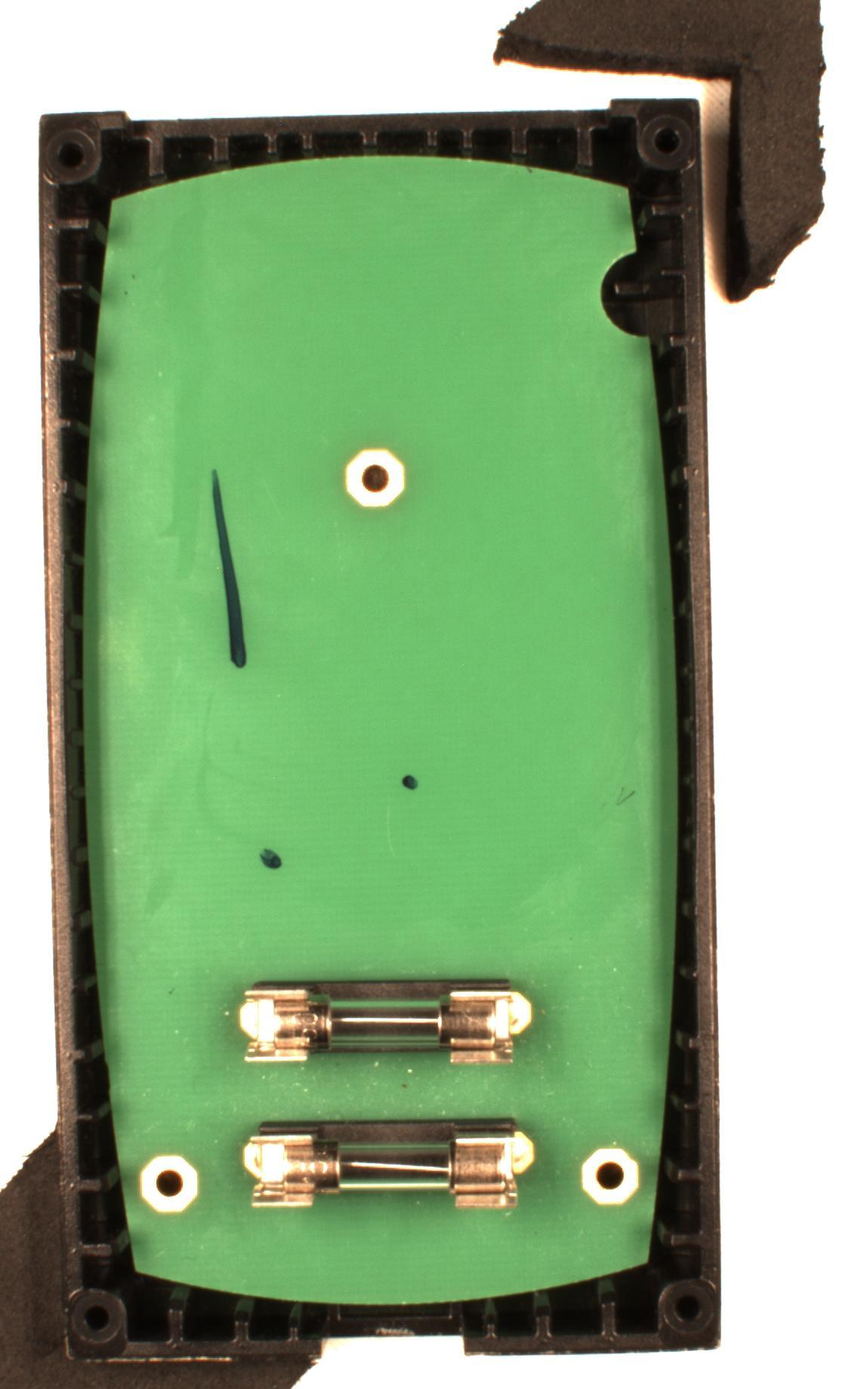Linijsko Ostecene: (207, 466, 252, 674)
Tockasto Ostecenje: (258, 845, 284, 876), (400, 770, 419, 793)
